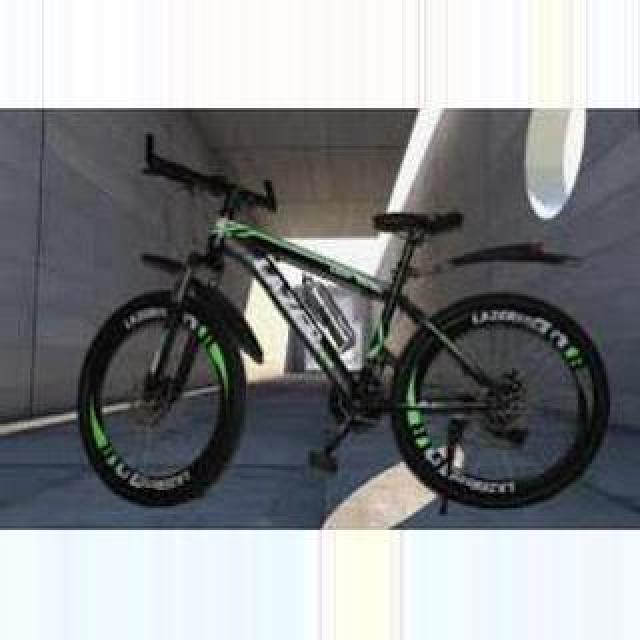Person: (64, 146, 626, 518)
